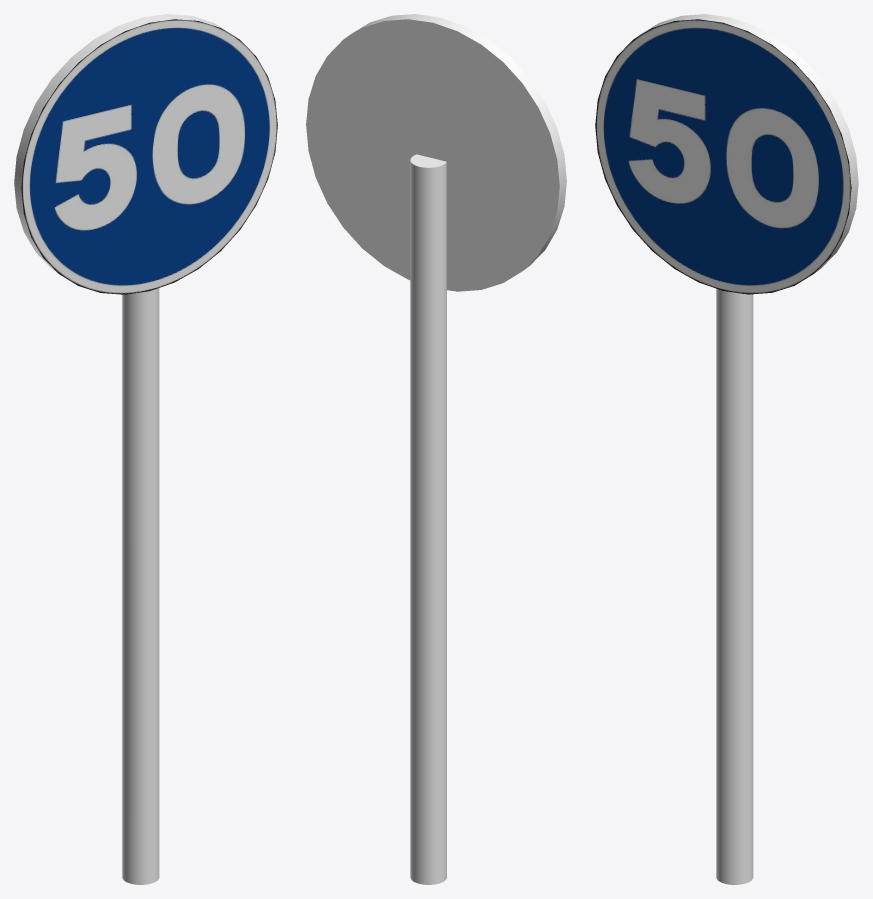
File: MINIMO 50.fbx
3 views of the same model, side by side, from view 1: azimuth 30°, elevation 25°; view 2: azimuth 150°, elevation 25°; view 3: azimuth 330°, elevation 25° (orthographic).
Visible parts, largest first — view 1: Cylinder.025; view 2: Cylinder.025; view 3: Cylinder.025.
Part boxes in pixels (x1,y1,x2,y2): Cylinder.025: (14,14,277,884); Cylinder.025: (306,14,566,884); Cylinder.025: (595,14,858,884).
Bounding box in the file's own units: 80.06 × 257 × 10.47.
2 materials, 2 textured.
